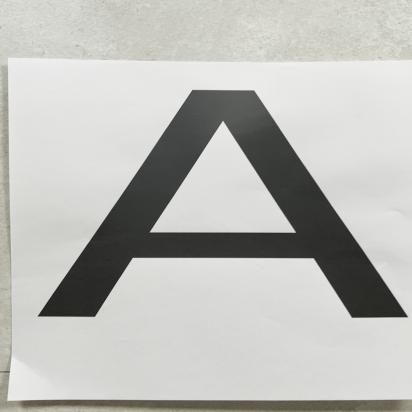seat: (33, 75, 412, 346)
